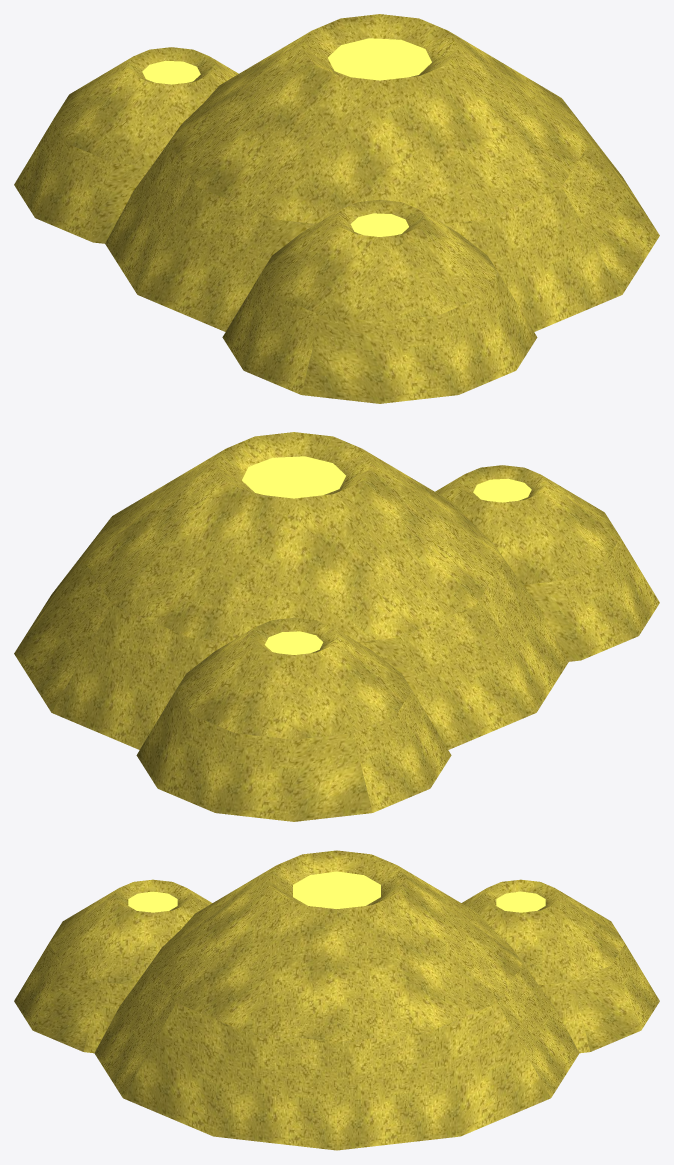
File: sulphur_vent.glb
The picture shows the model from 3 angles, top to bottom: view 1: azimuth 30°, elevation 25°; view 2: azimuth 150°, elevation 25°; view 3: azimuth 270°, elevation 25°; orthographic projection. The views are drawn at different scales.
Parts seen in each view (by area): view 1: Vents, Throats; view 2: Vents, Throats; view 3: Vents, Throats.
Boxes of the visible parts, x1=… form: Vents: x1=14, y1=14, x2=659, y2=403; Throats: x1=142, y1=38, x2=431, y2=236; Vents: x1=14, y1=432, x2=659, y2=821; Throats: x1=242, y1=456, x2=531, y2=654; Vents: x1=14, y1=850, x2=659, y2=1150; Throats: x1=128, y1=871, x2=545, y2=912.
Size of what is drawn, in the model's own units: 5.12 by 1.9 by 6.69.
2 materials, 1 textured.
